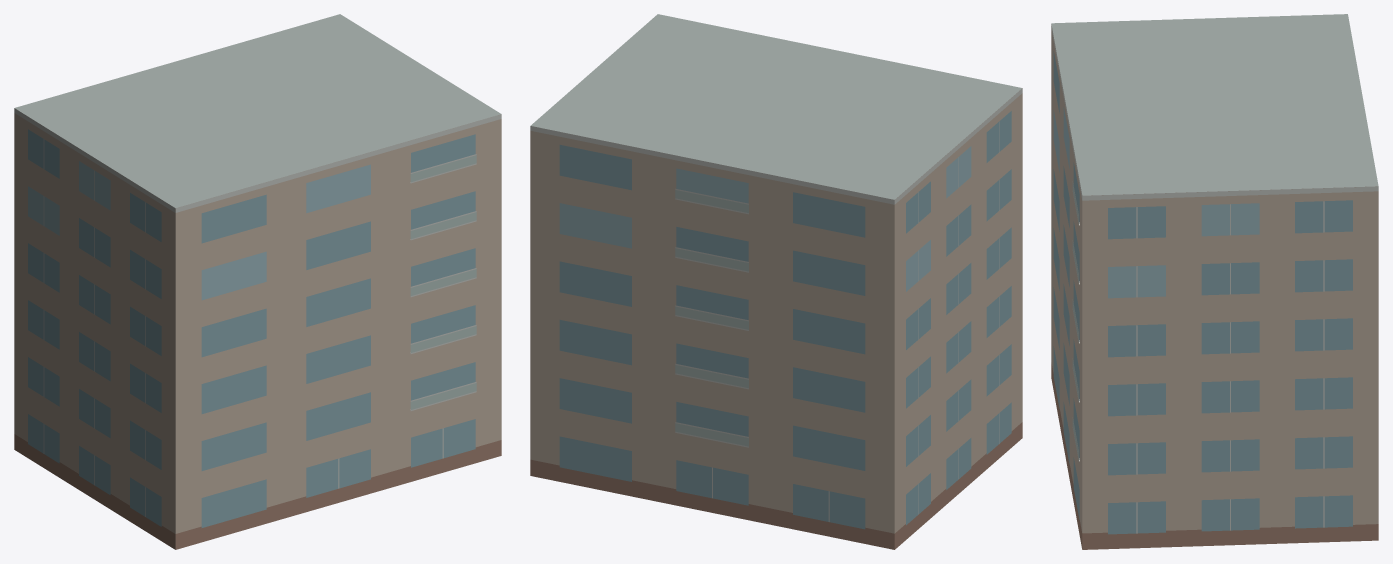
File: survey-upis-32979063.glb
3 views of the same model, side by side, from view 1: azimuth 30°, elevation 25°; view 2: azimuth 150°, elevation 25°; view 3: azimuth 270°, elevation 25° (orthographic). The views are drawn at different scales.
Parts seen in each view (by area): view 1: survey-upis-32979063.tmp; view 2: survey-upis-32979063.tmp; view 3: survey-upis-32979063.tmp.
Boxes of the visible parts, x1,y1,x2,y2 form: survey-upis-32979063.tmp: (14,14,501,549); survey-upis-32979063.tmp: (530,14,1022,549); survey-upis-32979063.tmp: (1051,14,1378,549).
Bounding box in the file's own units: 19.16 × 17.4 × 14.58.
